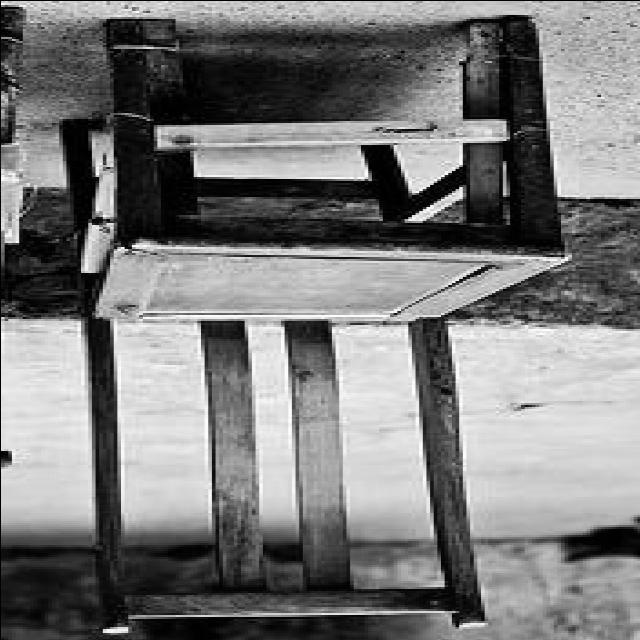chair: (45, 14, 571, 633)
